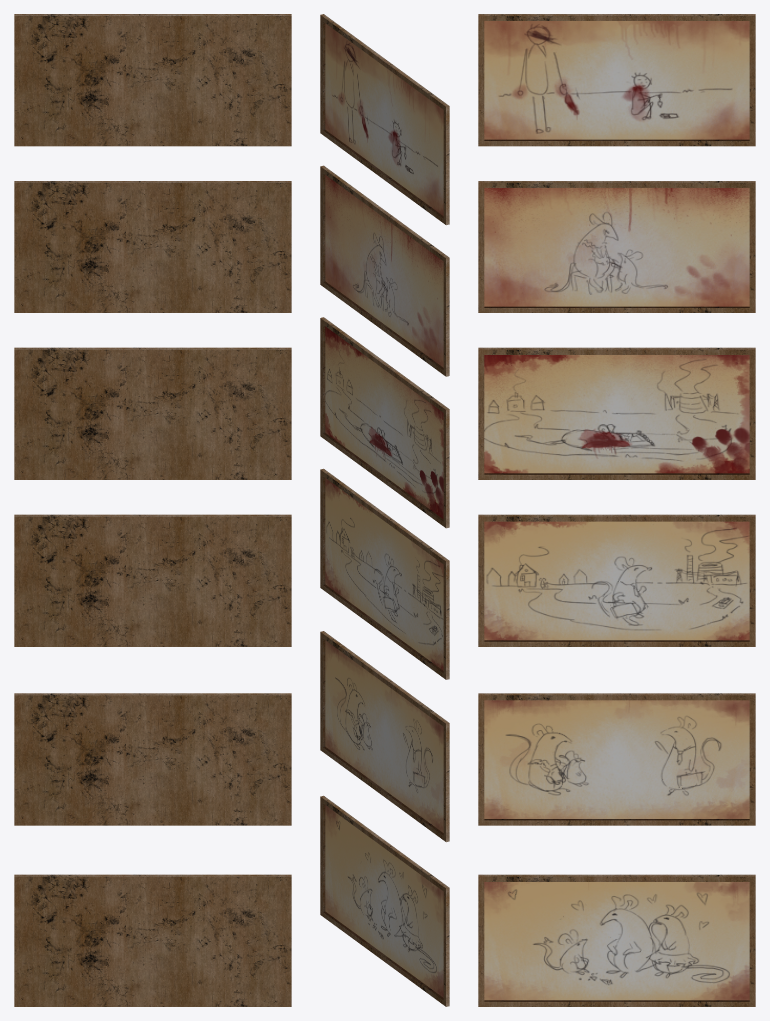
The model's file is pictures.fbx.
3 views of the same model, side by side, from view 1: azimuth 90°, elevation 25°; view 2: azimuth 210°, elevation 25°; view 3: azimuth 270°, elevation 25° (orthographic). The views are drawn at different scales.
Parts seen in each view (by area): view 1: paint1, paint2, paint3, paint4, paint6, paint5; view 2: paint1, paint2, paint3, paint6, paint4, paint5; view 3: paint1, paint2, paint3, paint4, paint6, paint5.
Part boxes in pixels (box(x1,y1,x2,y2)): paint1: box(14, 874, 291, 1006); paint2: box(14, 693, 291, 825); paint3: box(14, 514, 291, 646); paint4: box(14, 347, 291, 479); paint6: box(14, 14, 291, 146); paint5: box(14, 181, 291, 312); paint1: box(320, 795, 449, 1006); paint2: box(320, 631, 449, 842); paint3: box(320, 468, 449, 679); paint6: box(320, 14, 449, 225); paint4: box(320, 317, 449, 528); paint5: box(320, 165, 449, 376); paint1: box(478, 874, 755, 1006); paint2: box(478, 693, 755, 825); paint3: box(478, 514, 755, 646); paint4: box(478, 347, 755, 479); paint6: box(478, 14, 755, 146); paint5: box(478, 181, 755, 312).
Bounding box in the file's own units: 6.13 × 1520 × 385.
